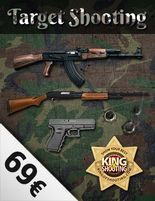ak47: (14, 48, 143, 85)
